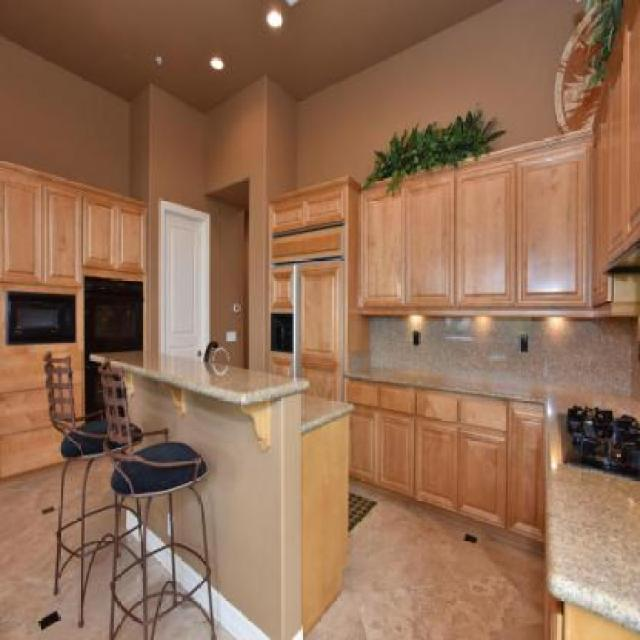floor: (308, 480, 546, 640), (1, 458, 111, 637)
